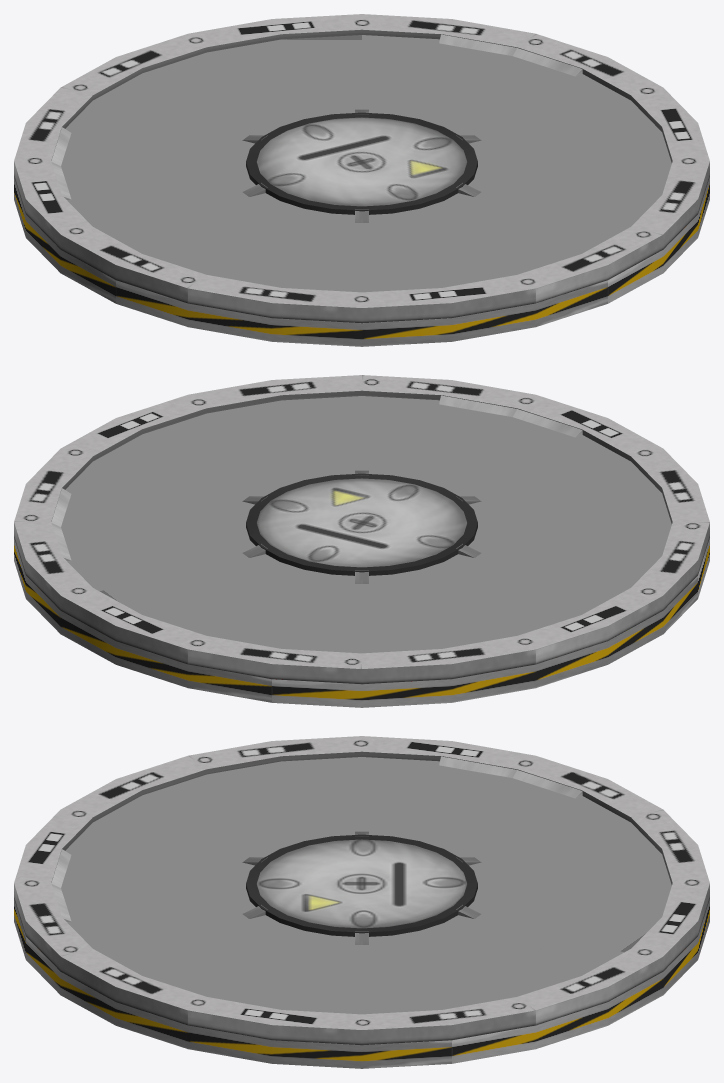
Rendered from AltLargeDockRing.FBX.
3 renders of one model, top to bottom at view 1: azimuth 30°, elevation 25°; view 2: azimuth 150°, elevation 25°; view 3: azimuth 270°, elevation 25°, orthographic.
Parts seen in each view (by area): view 1: Cylinder002, HexPortBodyOpen, EndCap008, Cylinder001, AlignmentTool003, AlignmentTool002; view 2: Cylinder002, HexPortBodyOpen, EndCap008, Cylinder001, AlignmentTool001, AlignmentTool003; view 3: Cylinder002, HexPortBodyOpen, EndCap008, Cylinder001, AlignmentTool002, AlignmentTool001.
Part boxes in pixels (box(x1,y1,x2,y2)): Cylinder002: box(38, 35, 686, 323); HexPortBodyOpen: box(14, 14, 709, 323); EndCap008: box(246, 112, 477, 214); Cylinder001: box(14, 177, 709, 346); AlignmentTool003: box(439, 34, 582, 76); AlignmentTool002: box(51, 127, 71, 199); Cylinder002: box(37, 396, 685, 684); HexPortBodyOpen: box(14, 375, 709, 684); EndCap008: box(246, 473, 477, 575); Cylinder001: box(14, 538, 709, 707); AlignmentTool001: box(439, 395, 582, 437); AlignmentTool003: box(51, 488, 71, 560); Cylinder002: box(37, 757, 685, 1045); HexPortBodyOpen: box(14, 736, 709, 1045); EndCap008: box(246, 834, 477, 936); Cylinder001: box(14, 899, 709, 1068); AlignmentTool002: box(439, 756, 582, 798); AlignmentTool001: box(51, 849, 71, 921).
Size of the model in its own units: 3.75 by 0.2317 by 3.75.
Materials: 1 (1 with a texture image).
